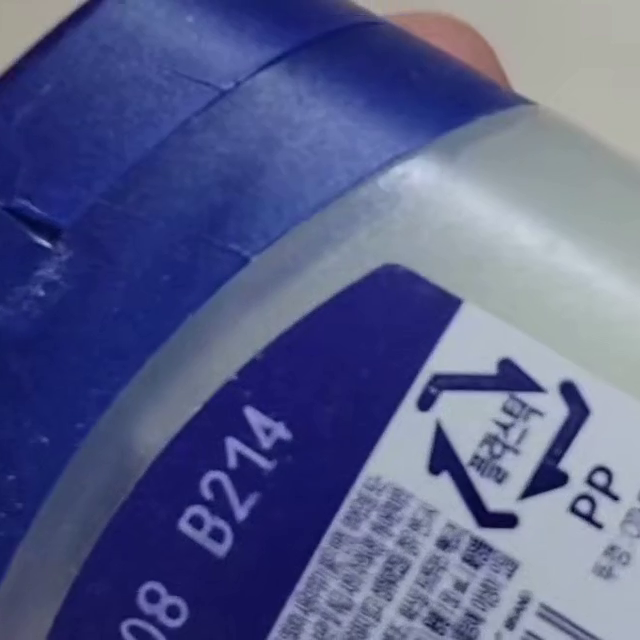Plastic: (417, 355, 589, 531)
